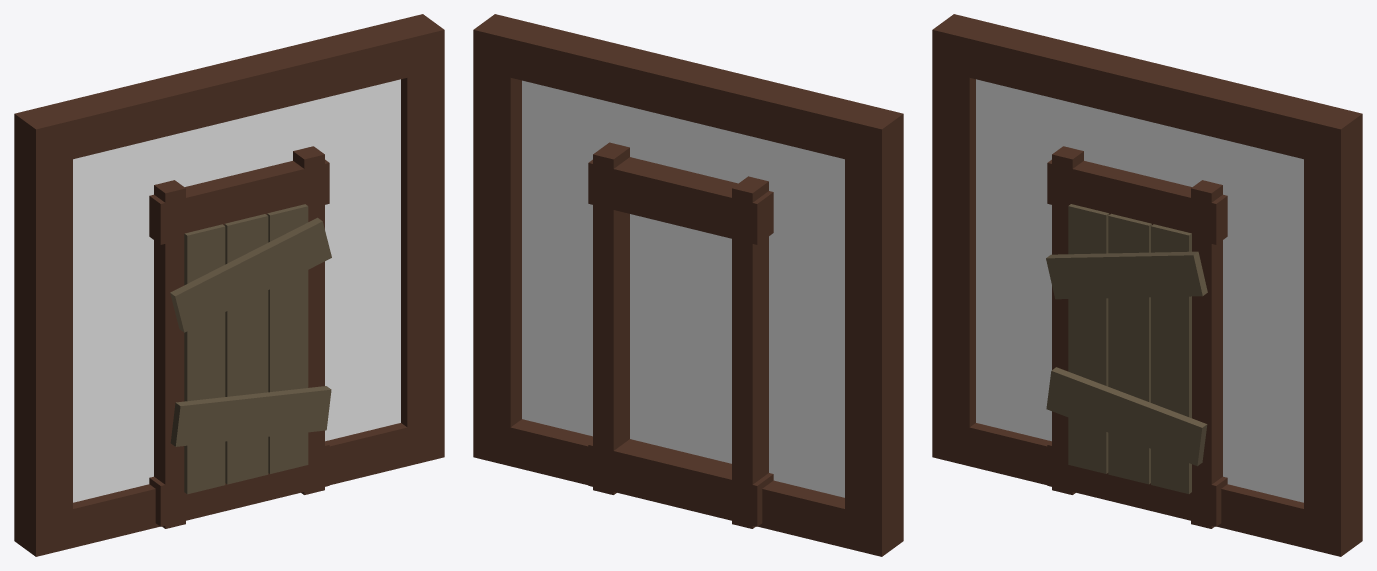
File: barikatlikapi.fbx
3 views of the same model, side by side, from view 1: azimuth 30°, elevation 25°; view 2: azimuth 150°, elevation 25°; view 3: azimuth 330°, elevation 25° (orthographic).
Parts seen in each view (by area): view 1: Plane.051, Plane.050, Cube.002; view 2: Plane.051, Plane.050; view 3: Plane.051, Plane.050, Cube.002.
Part boxes in pixels (x1=…): Plane.051: x1=14, y1=14, x2=444, y2=556; Plane.050: x1=73, y1=79, x2=400, y2=502; Cube.002: x1=170, y1=204, x2=331, y2=494; Plane.051: x1=473, y1=14, x2=903, y2=556; Plane.050: x1=522, y1=80, x2=844, y2=497; Plane.051: x1=932, y1=14, x2=1362, y2=556; Plane.050: x1=976, y1=79, x2=1303, y2=502; Cube.002: x1=1046, y1=204, x2=1207, y2=493.
Bounding box in the file's own units: 2.86 × 2.86 × 0.477.
